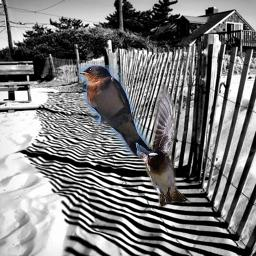Swallow: (107, 84, 191, 207), (79, 65, 150, 156)
